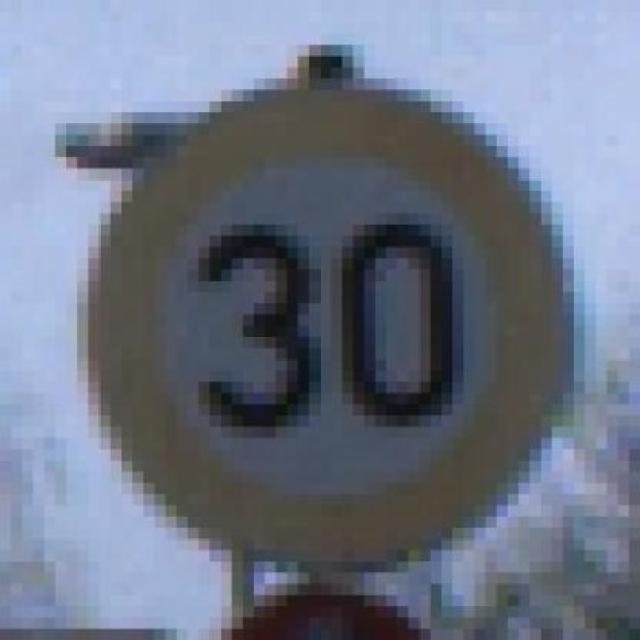Speed Limit 30 KMPh: (55, 68, 596, 595)
